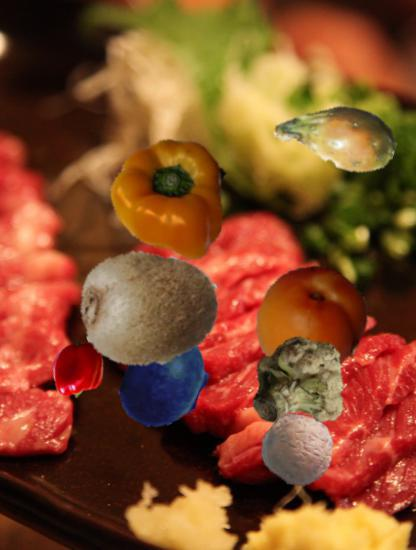Apricot: (253, 265, 369, 381)
Cactus: (273, 73, 398, 198)
Cauliflower: (253, 335, 349, 431)
Huckleberry: (115, 330, 215, 430)
Kiwi: (79, 236, 219, 376)
Pepper: (111, 135, 240, 264), (51, 342, 106, 397)
Walnut: (260, 413, 334, 487)
